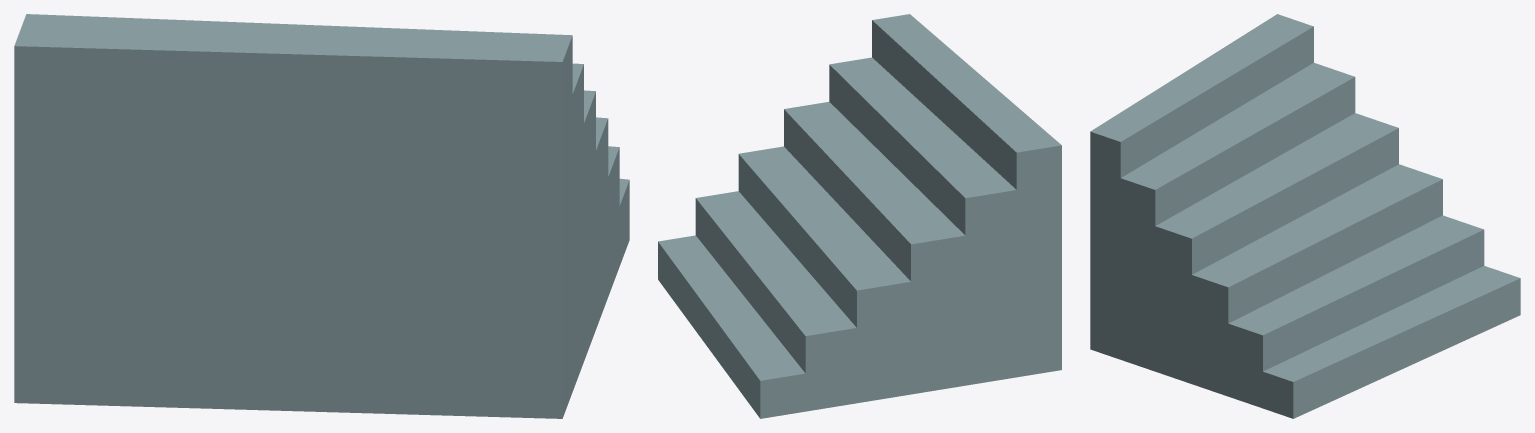
Rendered from mcity-m3-crown-silhouette.glb.
The picture shows the model from 3 angles, left to right: view 1: azimuth 30°, elevation 25°; view 2: azimuth 150°, elevation 25°; view 3: azimuth 270°, elevation 25°; orthographic projection. The views are drawn at different scales.
Parts seen in each view (by area): view 1: m3-crown-strip-6, m3-crown-strip-5, m3-crown-strip-4, m3-crown-strip-3, m3-crown-strip-2, m3-crown-strip-1; view 2: m3-crown-strip-6, m3-crown-strip-5, m3-crown-strip-4, m3-crown-strip-3, m3-crown-strip-2, m3-crown-strip-1; view 3: m3-crown-strip-5, m3-crown-strip-4, m3-crown-strip-6, m3-crown-strip-3, m3-crown-strip-2, m3-crown-strip-1.
Part boxes in pixels (<box>): m3-crown-strip-6: <box>14,14,572,418</box>; m3-crown-strip-5: <box>572,63,583,391</box>; m3-crown-strip-4: <box>584,90,595,360</box>; m3-crown-strip-3: <box>596,117,608,328</box>; m3-crown-strip-2: <box>608,146,619,296</box>; m3-crown-strip-1: <box>619,178,629,265</box>; m3-crown-strip-6: <box>872,14,1061,377</box>; m3-crown-strip-5: <box>829,57,1016,385</box>; m3-crown-strip-4: <box>784,102,965,394</box>; m3-crown-strip-3: <box>738,146,910,403</box>; m3-crown-strip-2: <box>695,191,856,411</box>; m3-crown-strip-1: <box>658,235,805,418</box>; m3-crown-strip-5: <box>1120,63,1355,371</box>; m3-crown-strip-4: <box>1155,113,1398,383</box>; m3-crown-strip-6: <box>1090,14,1313,359</box>; m3-crown-strip-3: <box>1192,164,1442,396</box>; m3-crown-strip-2: <box>1228,215,1484,408</box>; m3-crown-strip-1: <box>1263,265,1520,418</box>.
Bounding box in the file's own units: 41.04 × 22.27 × 39.9.
